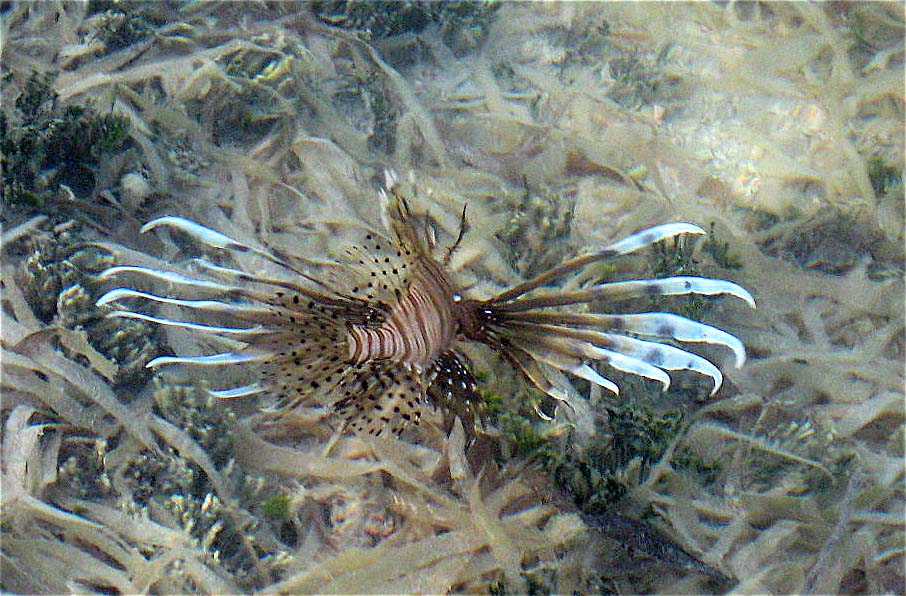Pterois_volitans: (138, 123, 721, 484)
